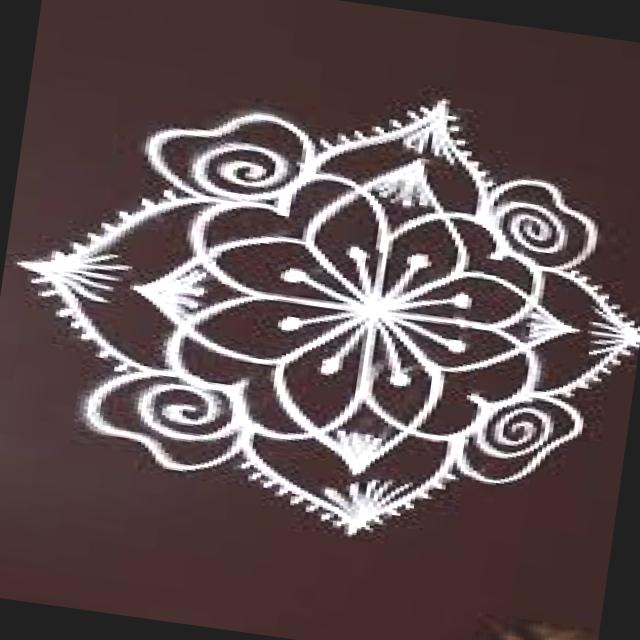rangoli: (0, 34, 640, 576)
